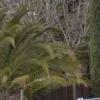Tree: (7, 6, 89, 99)
